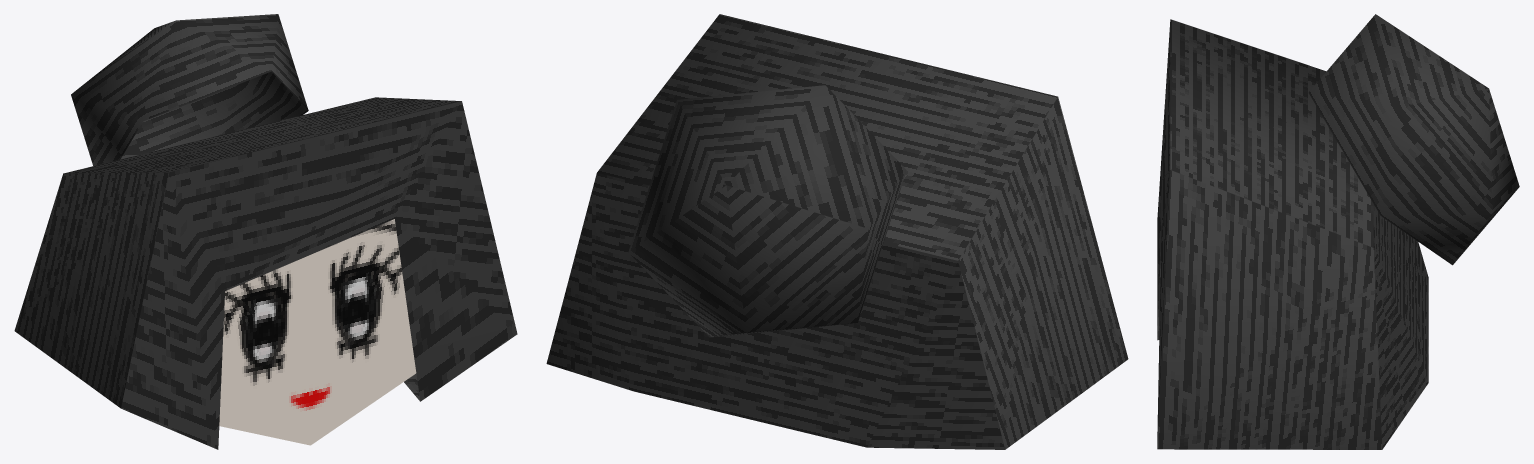
Rendered from C_GH_Head_F6.FBX.
The picture shows the model from 3 angles, left to right: view 1: azimuth 30°, elevation 25°; view 2: azimuth 150°, elevation 25°; view 3: azimuth 270°, elevation 25°; orthographic projection. The views are drawn at different scales.
Visible parts, largest first — view 1: Hair, Face; view 2: Hair; view 3: Hair.
Boxes of the visible parts, x1,y1,x2,y2 form: Hair: (14,14,517,449); Face: (219,219,416,445); Hair: (546,14,1128,449); Hair: (1157,14,1519,449).
Bounding box in the file's own units: 33.15 × 29.08 × 24.85.
Materials: 2 (2 with a texture image).
